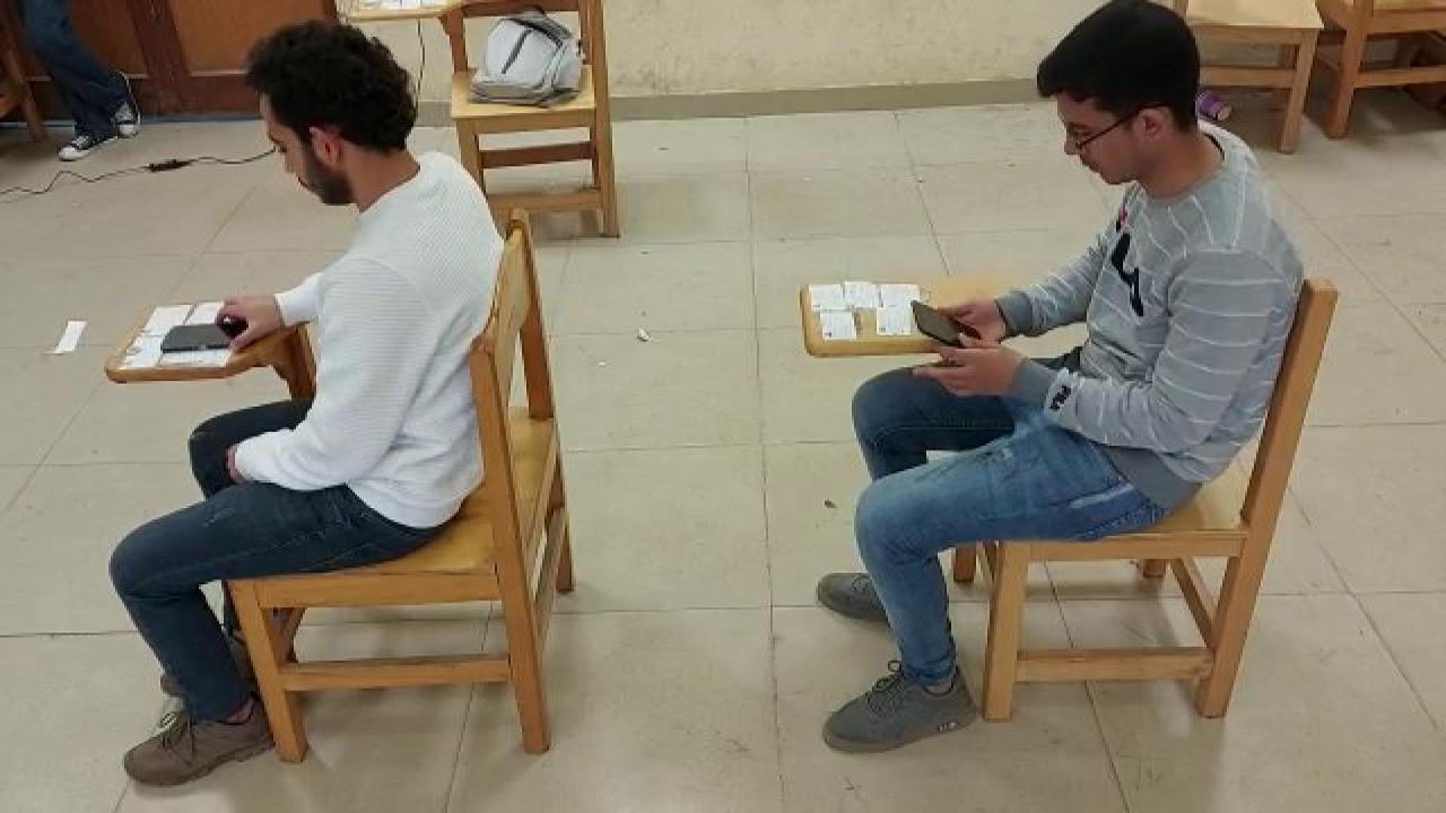phone: (911, 300, 983, 347), (160, 323, 249, 351)
